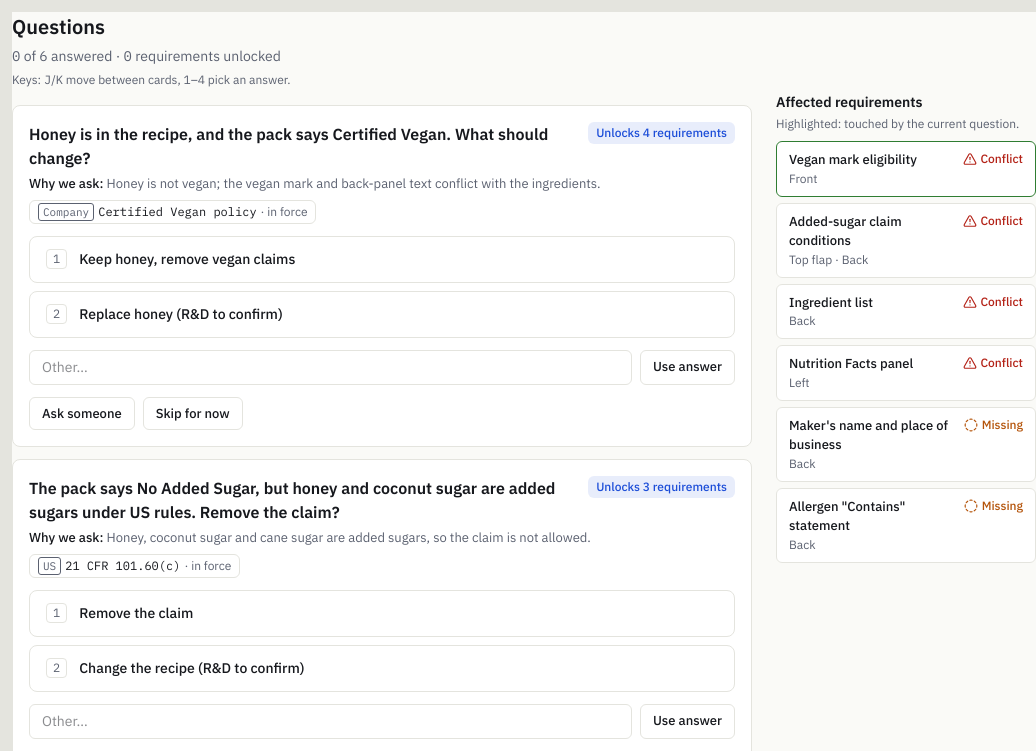
Questions screen › answering collapses the card, updates the progress line and the affected requirement
Step 1. Click the button "1 Keep honey, remove vegan claims" → (187, 258), box [29,236,735,282]
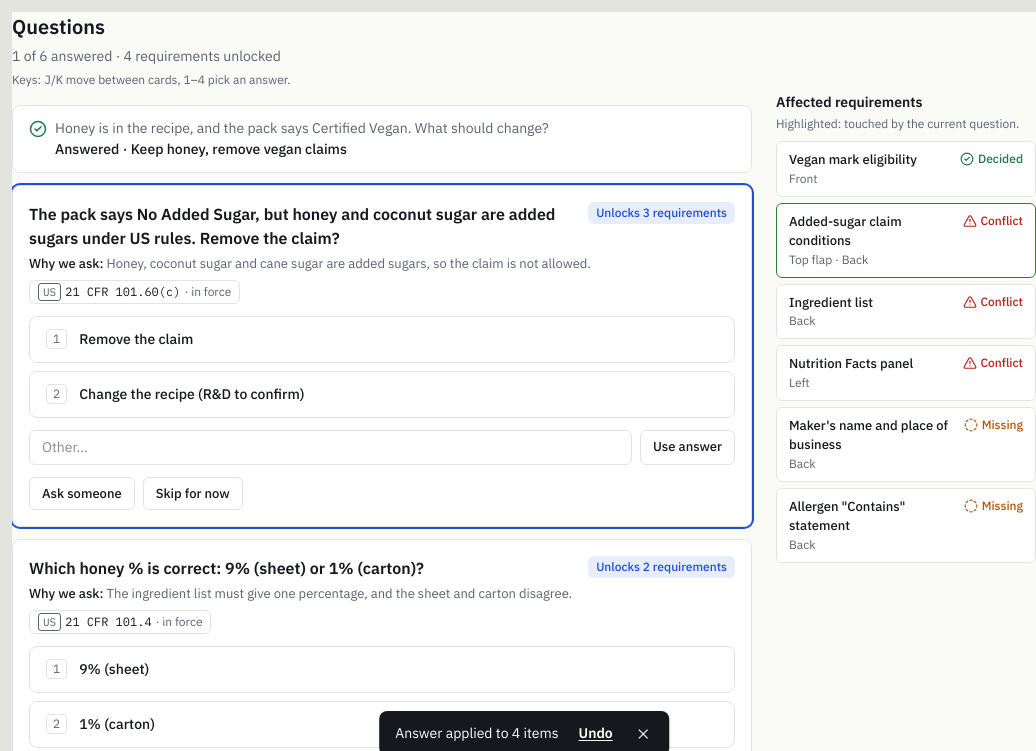
Now the text "Answered · Keep honey, remove vegan claims" is shown, box [55,140,347,158]
Now the message shows "Answer applied to 4 items", box [395,724,559,742]
